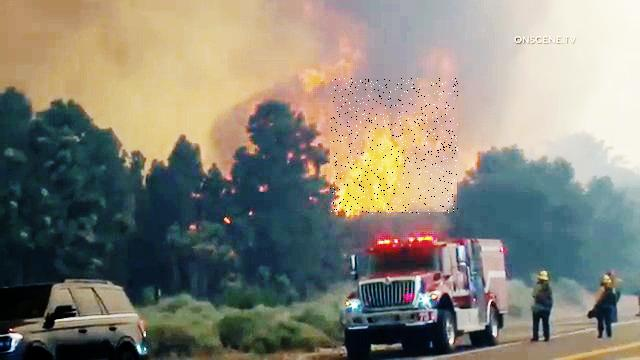fire: (330, 79, 458, 215)
